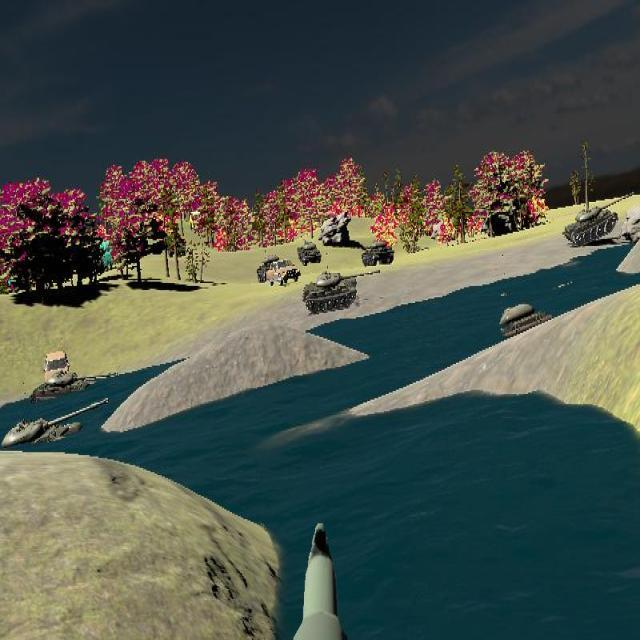Tank: (0, 398, 110, 480), (562, 193, 631, 247), (302, 270, 381, 313), (28, 368, 118, 405), (361, 239, 395, 267), (297, 239, 323, 265)
car: (266, 259, 301, 287)
